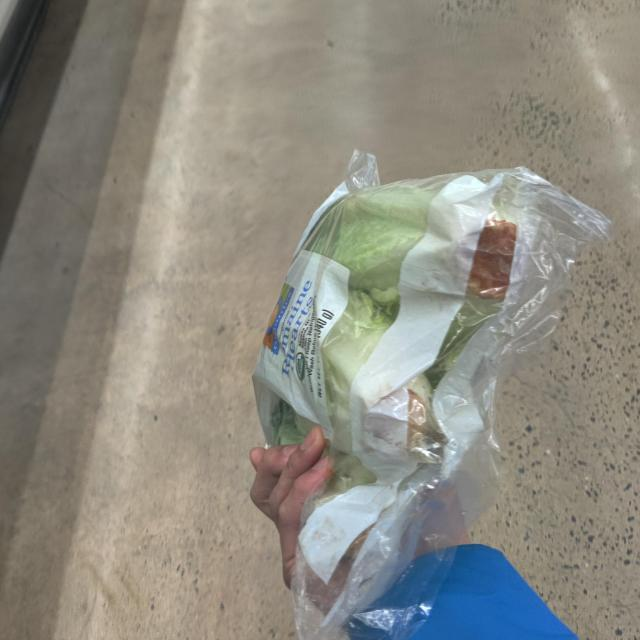Lettuce: (244, 145, 568, 601)
